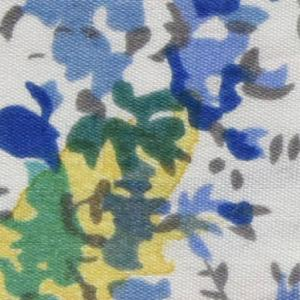Oil Stain: (1, 85, 217, 300)
